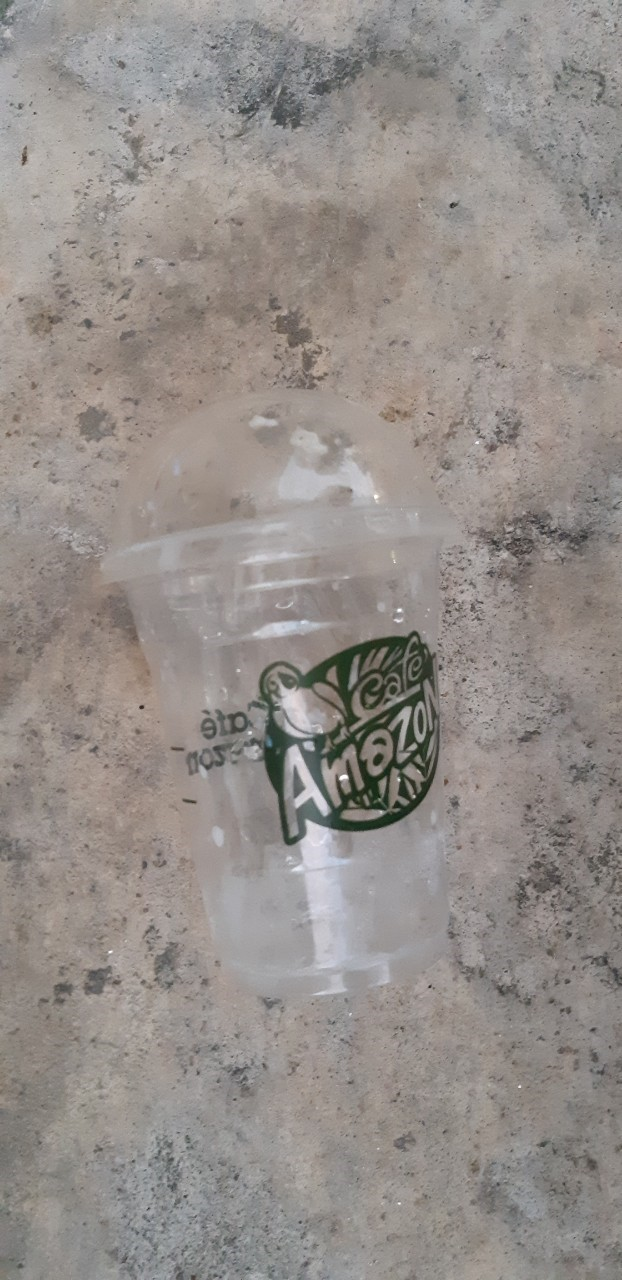PlasticCup: (102, 390, 455, 1014)
